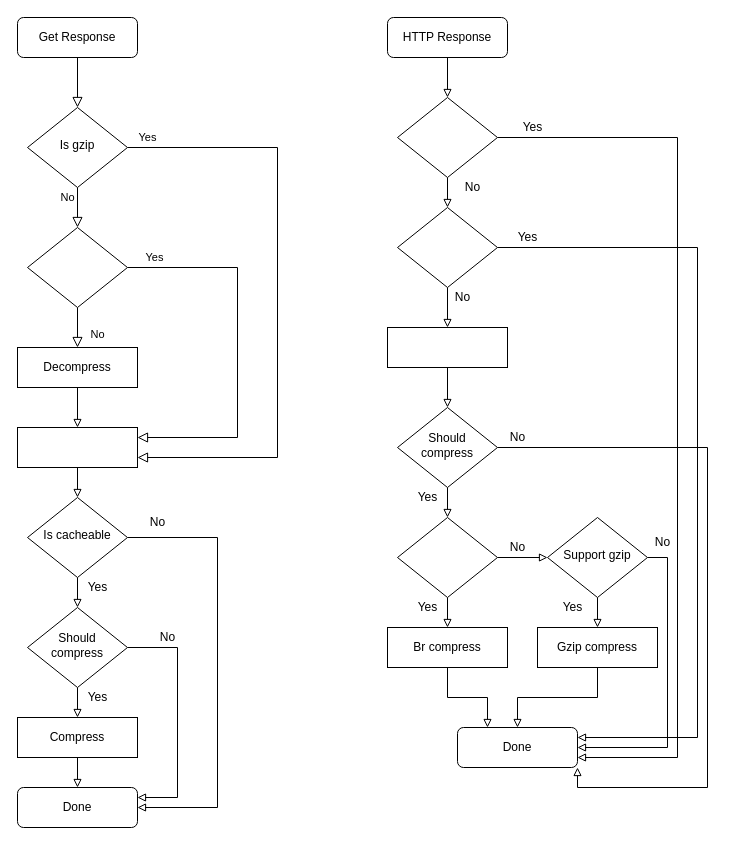
Some shapes in this 733 by 845 pixel diagram are drawn without their labels. Each missing label, with the centre of its shape:
"Create http resonse" belongs at point 77,447.
"Get raw body" belongs at point 447,347.
"Is br" belongs at point 77,267.
"Support br" belongs at point 447,557.
"Support br and br data exist" belongs at point 447,137.
"Support gzip and gzip data exist" belongs at point 447,247.
